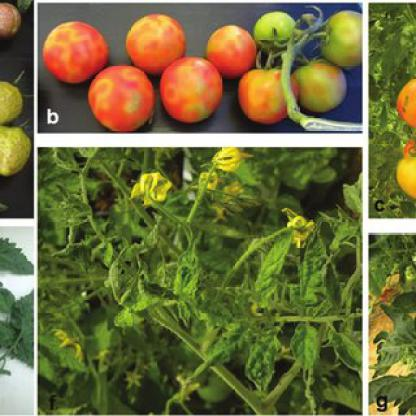Tomato leaf mosaic virus: (256, 237, 290, 309), (243, 333, 282, 395), (299, 233, 326, 311), (329, 322, 361, 371), (291, 320, 320, 373)
